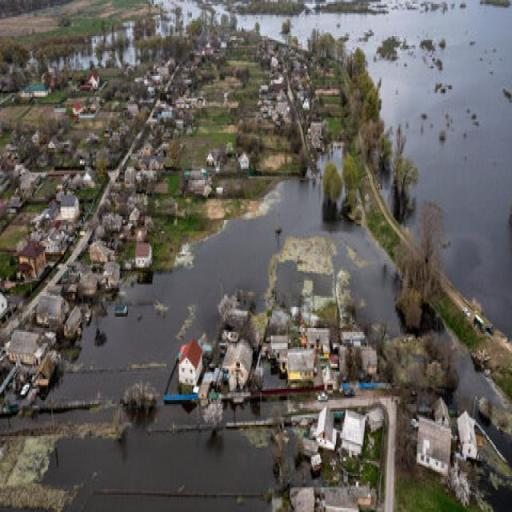flood: (51, 179, 402, 402), (293, 0, 512, 336), (46, 405, 273, 512), (458, 352, 500, 404), (279, 267, 333, 302), (0, 410, 113, 426), (154, 0, 202, 28), (225, 402, 281, 423), (240, 16, 284, 37)
house: (412, 408, 455, 480), (174, 339, 204, 394), (6, 330, 42, 362), (20, 240, 46, 282), (340, 412, 366, 454), (228, 340, 252, 380), (38, 294, 68, 326), (32, 353, 58, 389), (458, 412, 478, 458), (316, 406, 338, 447), (289, 348, 314, 379), (56, 193, 79, 222), (135, 238, 154, 273), (22, 84, 51, 100), (86, 68, 103, 92)
